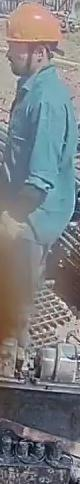gloves: (1, 214, 29, 249)
helmet: (5, 0, 62, 45)
vest: (6, 63, 73, 246)
